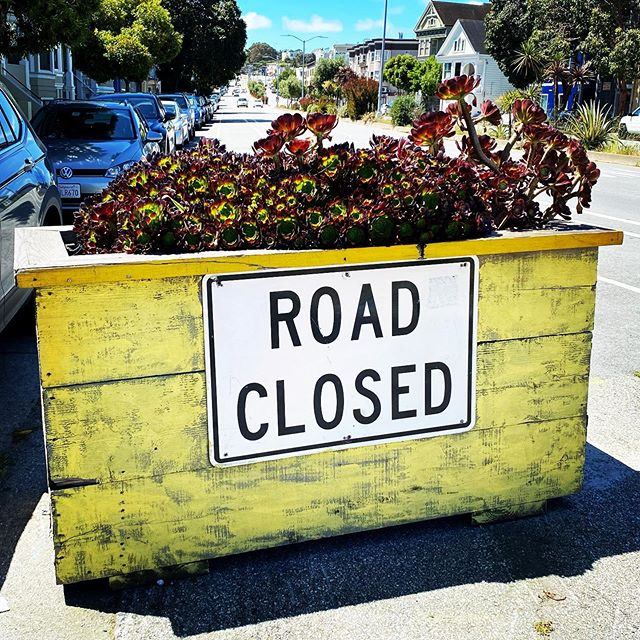building: (408, 6, 500, 130), (349, 28, 414, 106)
car: (30, 100, 143, 206)
sign: (207, 265, 479, 446)
tree: (471, 1, 640, 135), (75, 1, 182, 98), (161, 1, 250, 102)
vegetation: (64, 88, 596, 255)
